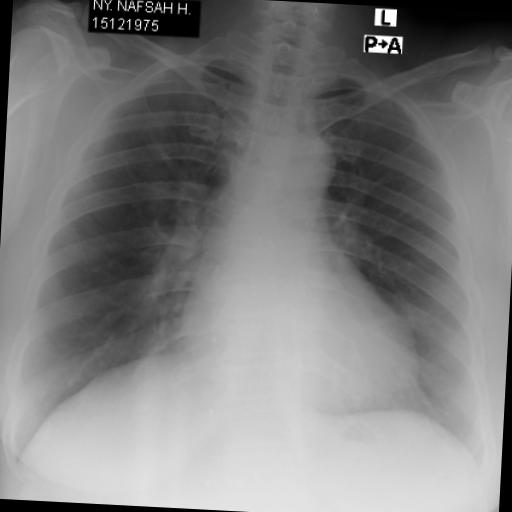kardiomegali: (164, 202, 438, 420)
